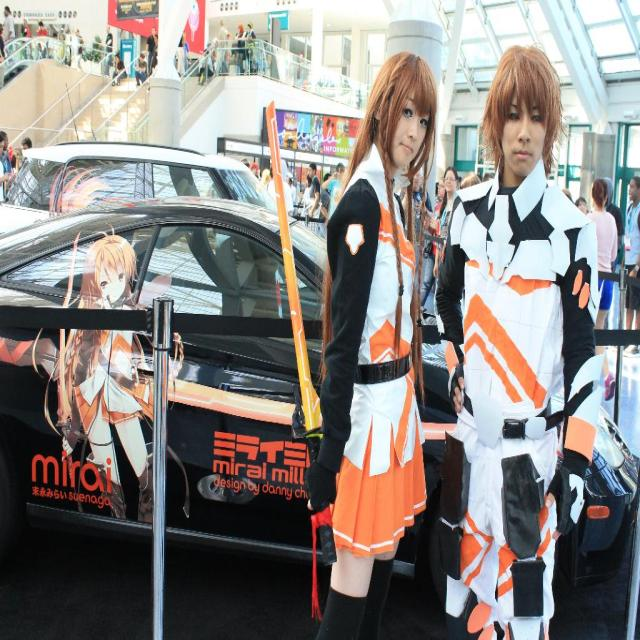car: (0, 196, 638, 617)
